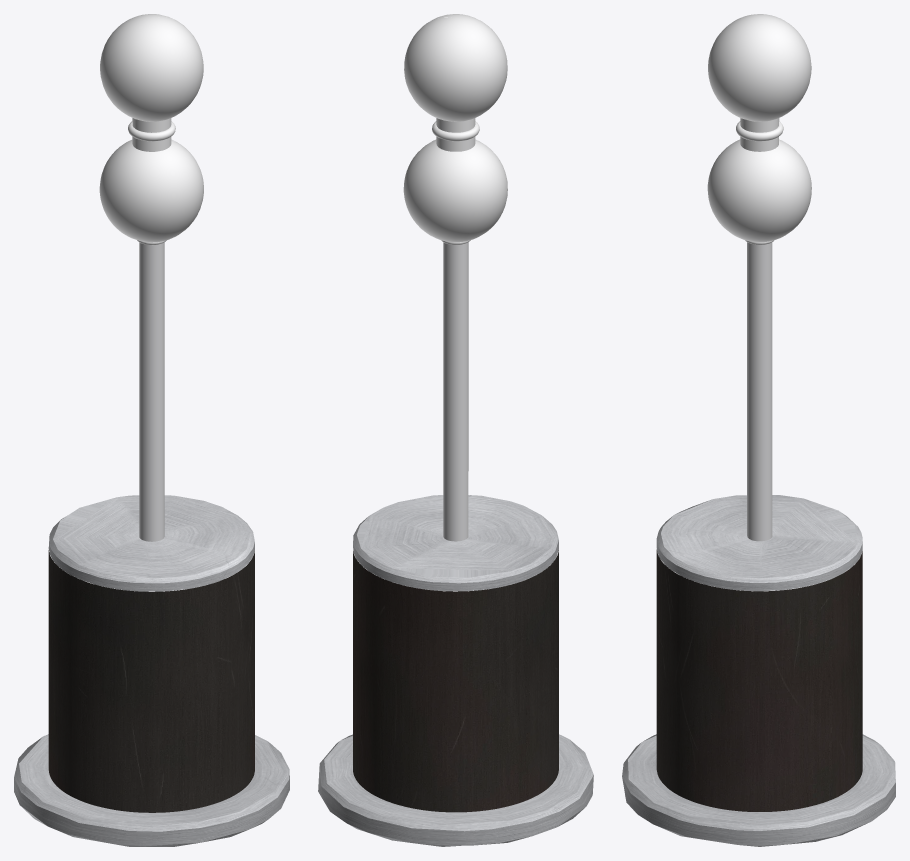
File: knight-black.glb
The picture shows the model from 3 angles, left to right: view 1: azimuth 30°, elevation 25°; view 2: azimuth 150°, elevation 25°; view 3: azimuth 270°, elevation 25°; orthographic projection.
Parts seen in each view (by area): view 1: ferro-orbis_knight_black; view 2: ferro-orbis_knight_black; view 3: ferro-orbis_knight_black.
Part boxes in pixels (x1,y1,x2,y2): ferro-orbis_knight_black: (14,14,289,846); ferro-orbis_knight_black: (318,14,593,846); ferro-orbis_knight_black: (622,14,895,846).
Bounding box in the file's own units: 0.4279 × 1.32 × 0.425.
Materials: 5 (3 with a texture image).
